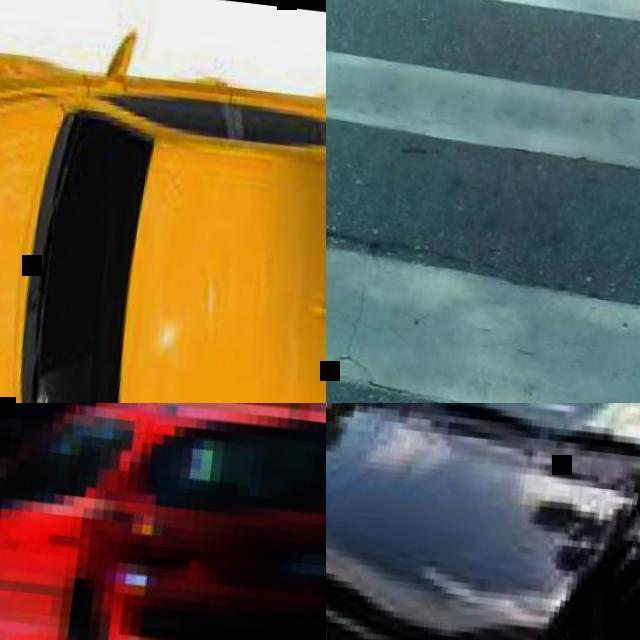car: (544, 465, 639, 637)
